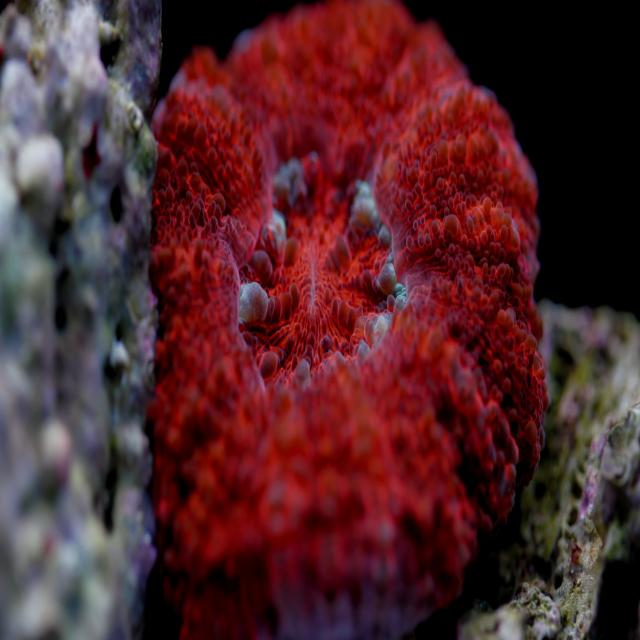Scolymia-Vitiensis -Poisonous-: (150, 0, 544, 629)
